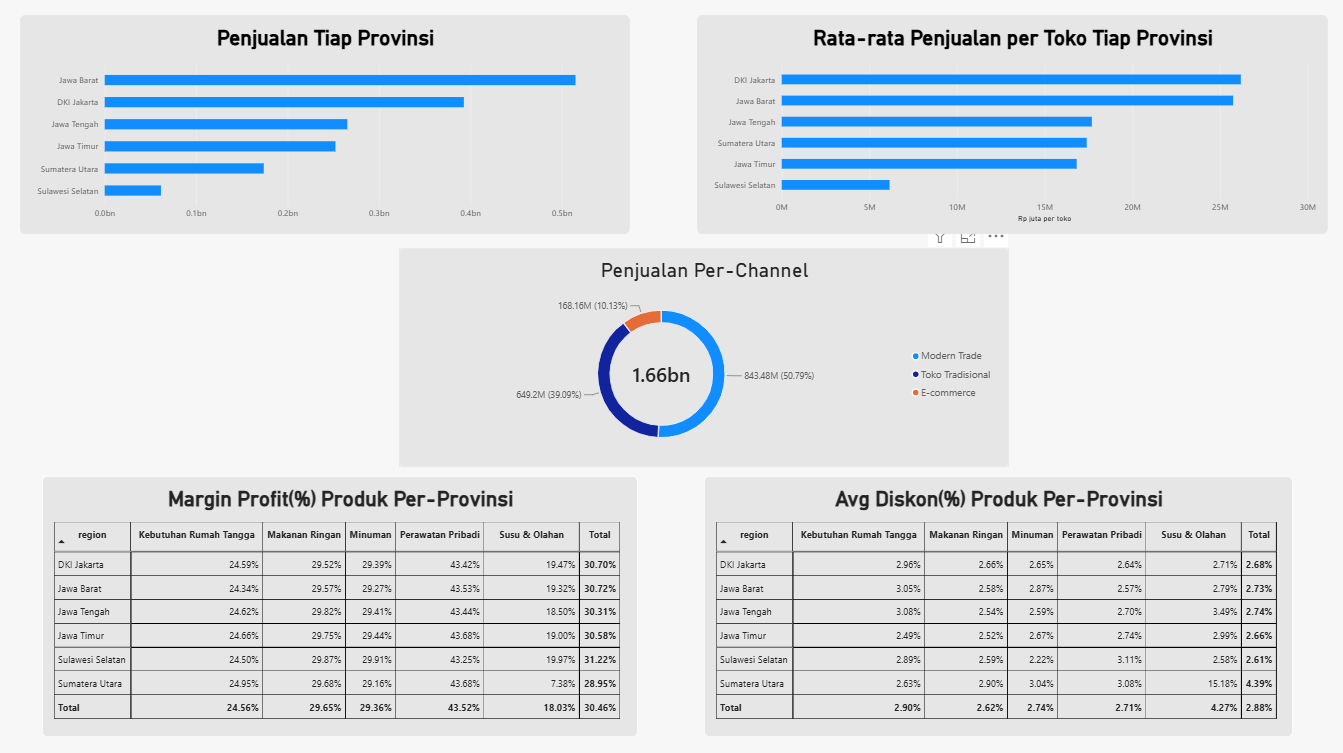

What the dashboard file says about the page in this screenshot:
{"tool":"powerbi","page":{"name":"Page 2","canvas":[1920,1080],"ordinal":1},"visuals":[{"type":"clusteredBarChart","title":"Penjualan Tiap Provinsi","fields":{"Category":["dim_store.region"],"Y":["fact_sales.Total Sales"]},"box":[30,22.9,871.4,312.9],"z":0},{"type":"pivotTable","title":"Avg Diskon(%) Produk Per-Provinsi","fields":{"Columns":["dim_product.category"],"Rows":["dim_store.region"],"Values":["fact_sales.Avg Discount %"]},"box":[1007.1,681.4,841.4,372.9],"z":1000},{"type":"donutChart","title":"Penjualan Per-Channel","fields":{"Category":["dim_store.channel"],"Y":["fact_sales.Total Sales"]},"box":[571.4,355.7,871.4,312.9],"z":2000},{"type":"pivotTable","title":"Margin Profit(%) Produk Per-Provinsi","fields":{"Columns":["dim_product.category"],"Rows":["dim_store.region"],"Values":["fact_sales.Profit Margin %"]},"box":[61.4,681.4,851.4,372.9],"z":3000},{"type":"barChart","title":"Rata-rata Penjualan per Toko Tiap Provinsi","fields":{"Category":["dim_store.region"],"Y":["fact_sales.Sales per Store"]},"box":[997.1,22.9,901.4,312.9],"z":3001}]}

Visuals, with their boxes in screenshot pixels (x1, y1, x2, y2), scaled from the page's 1920x1080 canvas onto the 1343x753 screenshot:
"Penjualan Tiap Provinsi" clusteredBarChart: <box>21,16,631,234</box>
"Avg Diskon(%) Produk Per-Provinsi" pivotTable: <box>704,475,1293,735</box>
"Penjualan Per-Channel" donutChart: <box>400,248,1009,466</box>
"Margin Profit(%) Produk Per-Provinsi" pivotTable: <box>43,475,638,735</box>
"Rata-rata Penjualan per Toko Tiap Provinsi" barChart: <box>697,16,1328,234</box>
